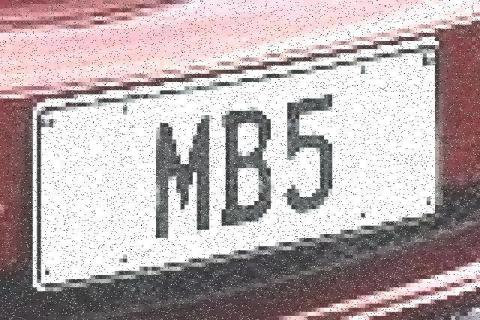LicensePlate: (14, 68, 446, 278)
